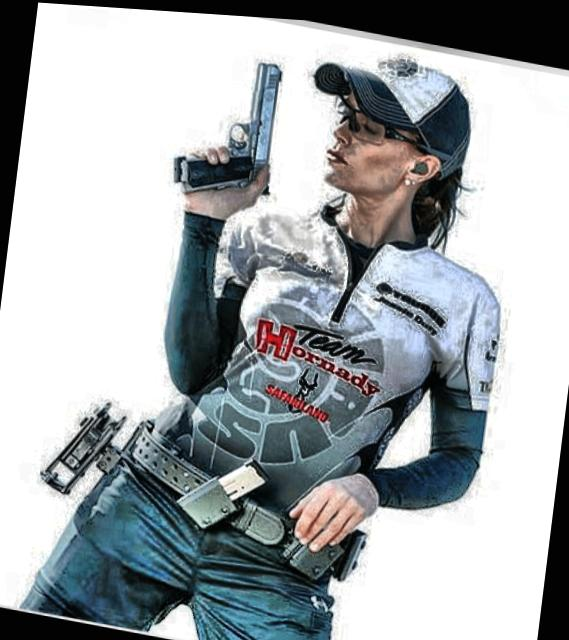pistol: (143, 35, 298, 203)
